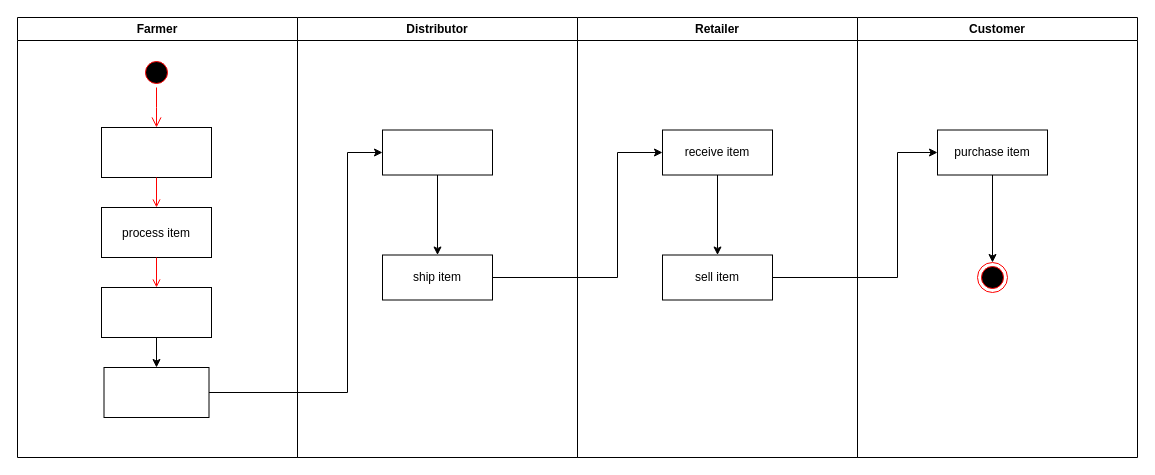
The diagram is 1155 pixels wide and 475 high, and some of its shapes have lost their labels. Each missing label, with the box of its shape:
buy item: (382, 129, 492, 175)
harvest item: (100, 126, 212, 178)
pack item: (100, 286, 212, 338)
put for sale: (103, 366, 209, 418)
